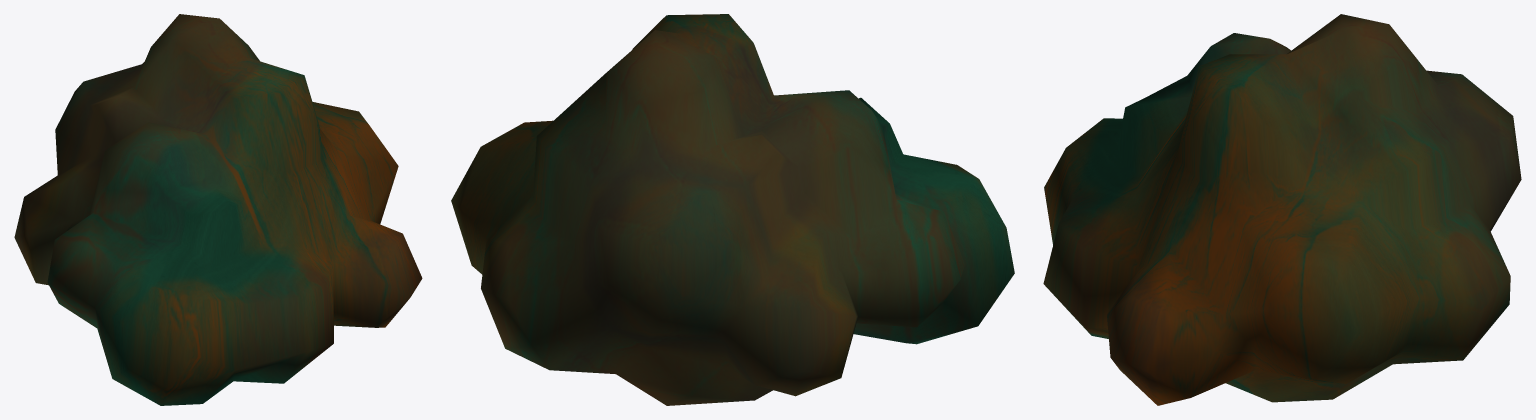
File: MalahitRock2.fbx
3 renders of one model, left to right at view 1: azimuth 30°, elevation 25°; view 2: azimuth 150°, elevation 25°; view 3: azimuth 270°, elevation 25°, orthographic. The views are drawn at different scales.
Parts seen in each view (by area): view 1: МСфера.016; view 2: МСфера.016; view 3: МСфера.016.
Part boxes in pixels (x1,y1,x2,y2): МСфера.016: (14,14,422,405); МСфера.016: (451,14,1014,405); МСфера.016: (1043,14,1521,405).
Bounding box in the file's own units: 162 × 128 × 151.
1 material, 1 textured.
